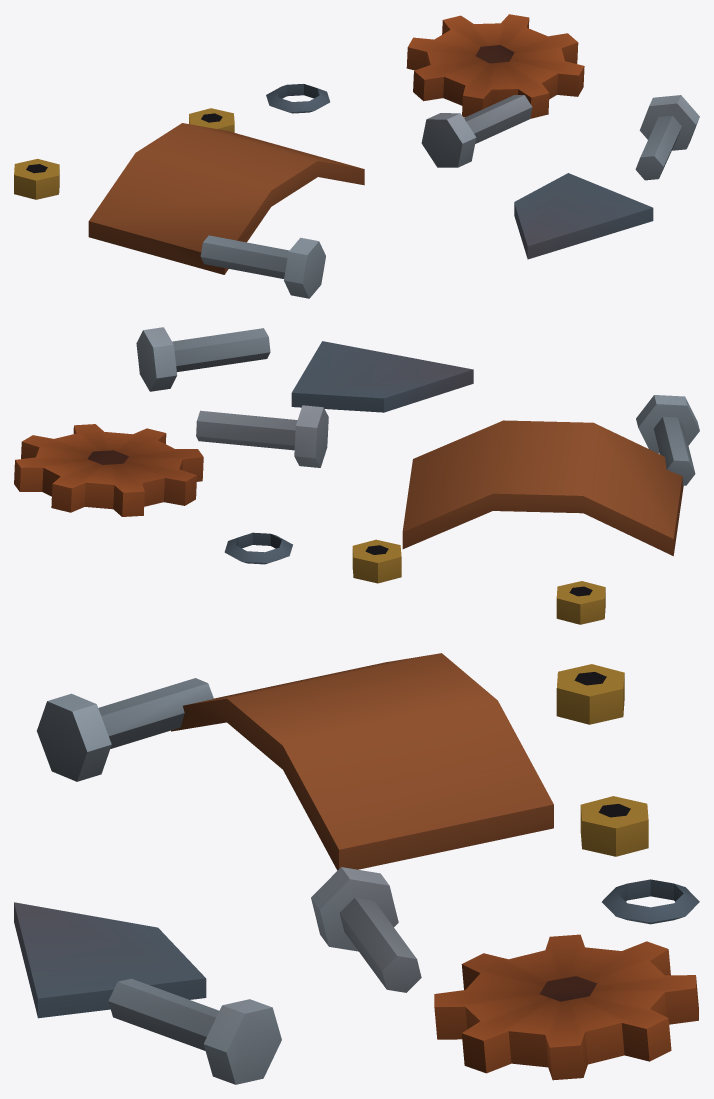
File: scrap_small.glb
3 renders of one model, top to bottom at view 1: azimuth 30°, elevation 25°; view 2: azimuth 150°, elevation 25°; view 3: azimuth 270°, elevation 25°, orthographic. The views are drawn at different scales.
Visible parts, largest first — view 1: scrap_small; view 2: scrap_small; view 3: scrap_small.
Boxes of the visible parts, left/top/right/bottom form: scrap_small: left=14, top=14, right=699, bottom=298; scrap_small: left=14, top=327, right=699, bottom=624; scrap_small: left=14, top=653, right=699, bottom=1084.
Bounding box in the file's own units: 0.7987 × 0.083 × 0.571.
